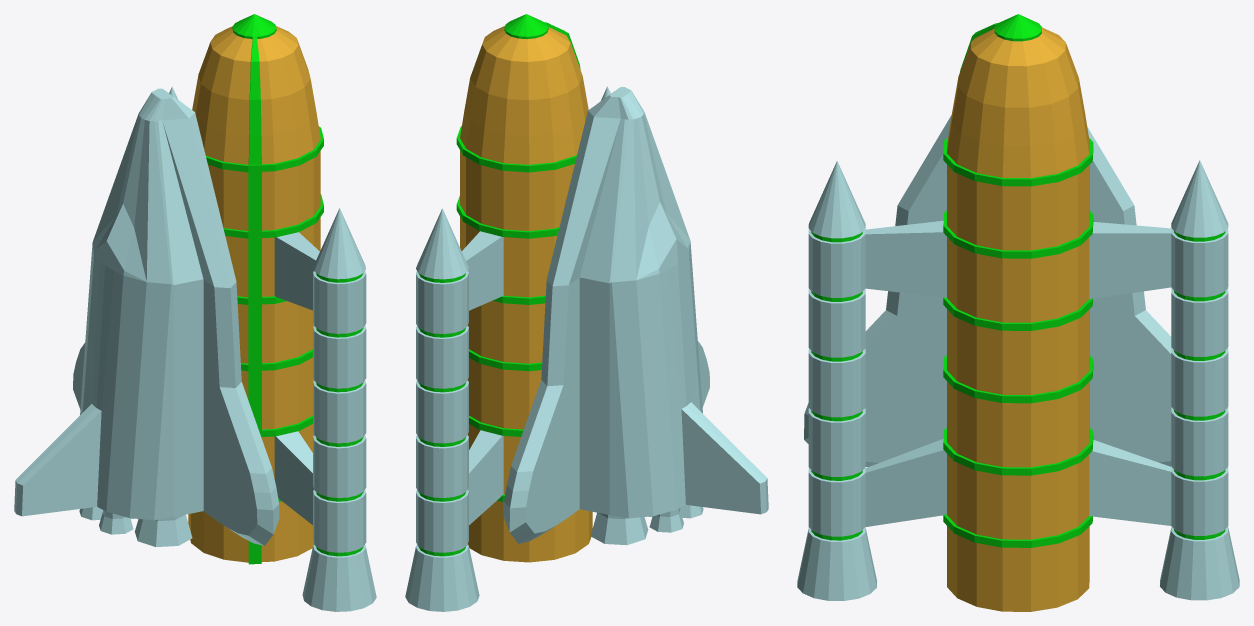
File: spaceship.fbx
3 views of the same model, side by side, from view 1: azimuth 30°, elevation 25°; view 2: azimuth 150°, elevation 25°; view 3: azimuth 270°, elevation 25° (orthographic). The views are drawn at different scales.
Parts seen in each view (by area): view 1: spaceship; view 2: spaceship; view 3: spaceship.
Part boxes in pixels (x1,y1,x2,y2): spaceship: (14, 14, 376, 611); spaceship: (405, 14, 768, 611); spaceship: (797, 14, 1239, 611).
Size of the model in its own units: 6749 by 11256 by 7934.
